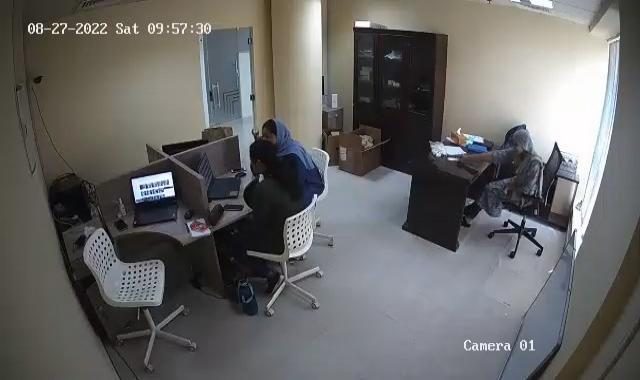hairnet: (510, 128, 534, 157)
no_hairnet: (247, 138, 277, 168), (263, 114, 289, 146)
